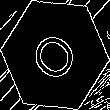O_SE: (24, 22, 86, 88)
